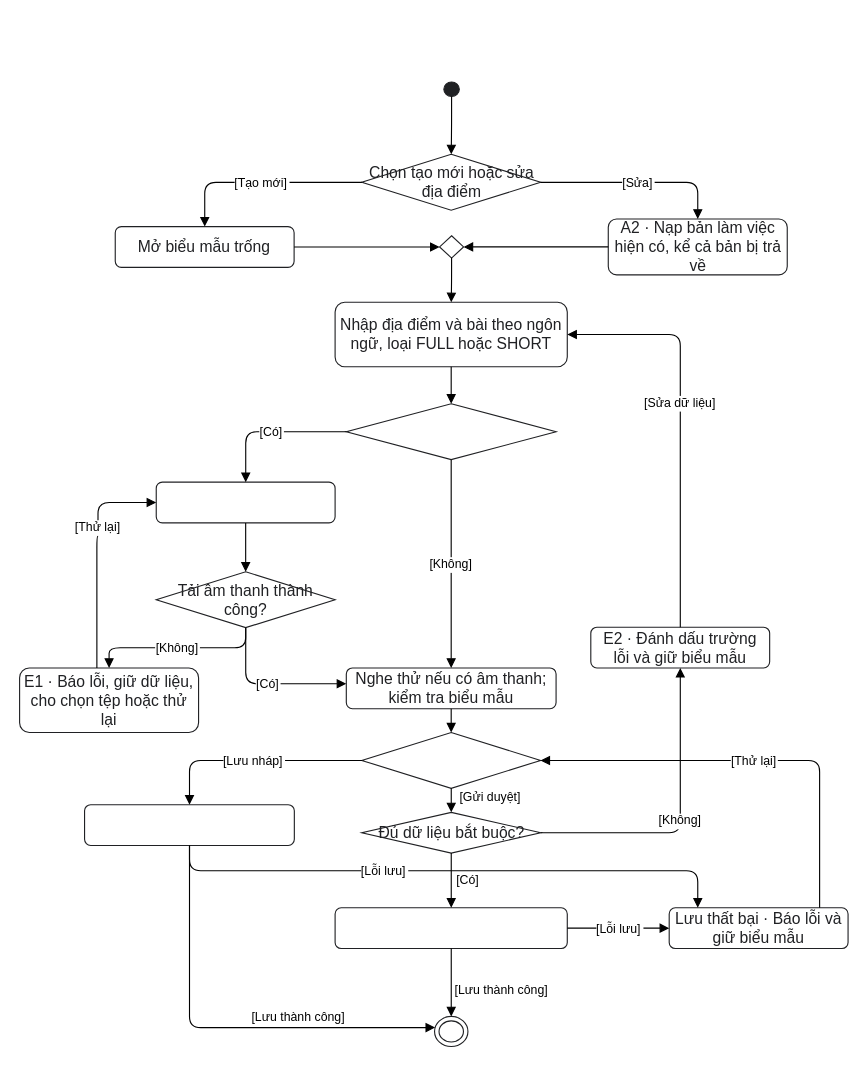
This 868x1066 diagram has some shape labels left out. Here are the shapes that lost their labels. From the top down, the box of each, then its label:
(345, 403, 556, 460): Có tải lên hoặc thay âm thanh?
(155, 481, 335, 523): Chọn tệp và tải theo ngôn ngữ, loại bài
(361, 731, 541, 788): Chọn cách lưu
(83, 804, 294, 845): A1 · Lưu DRAFT, cho phép thiếu trường bắt buộc
(334, 907, 567, 949): Lưu PENDING_REVIEW, giữ bản công khai hiện hành
